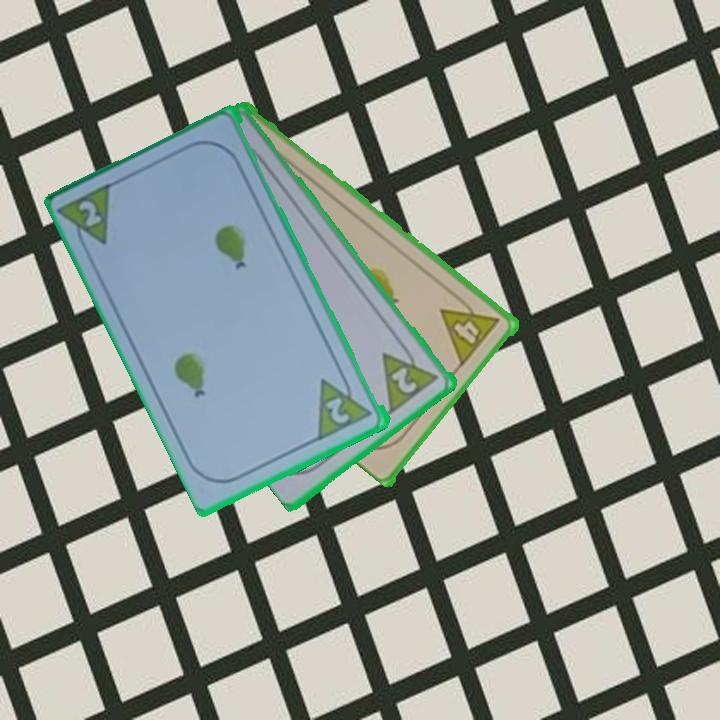2p: (388, 363, 421, 397), (322, 393, 353, 428), (75, 197, 106, 231)
4p: (437, 290, 503, 368)
